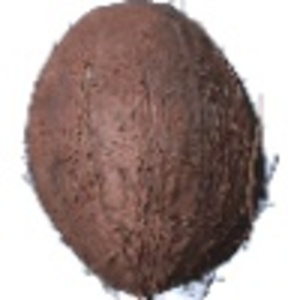coco: (25, 1, 279, 300)
